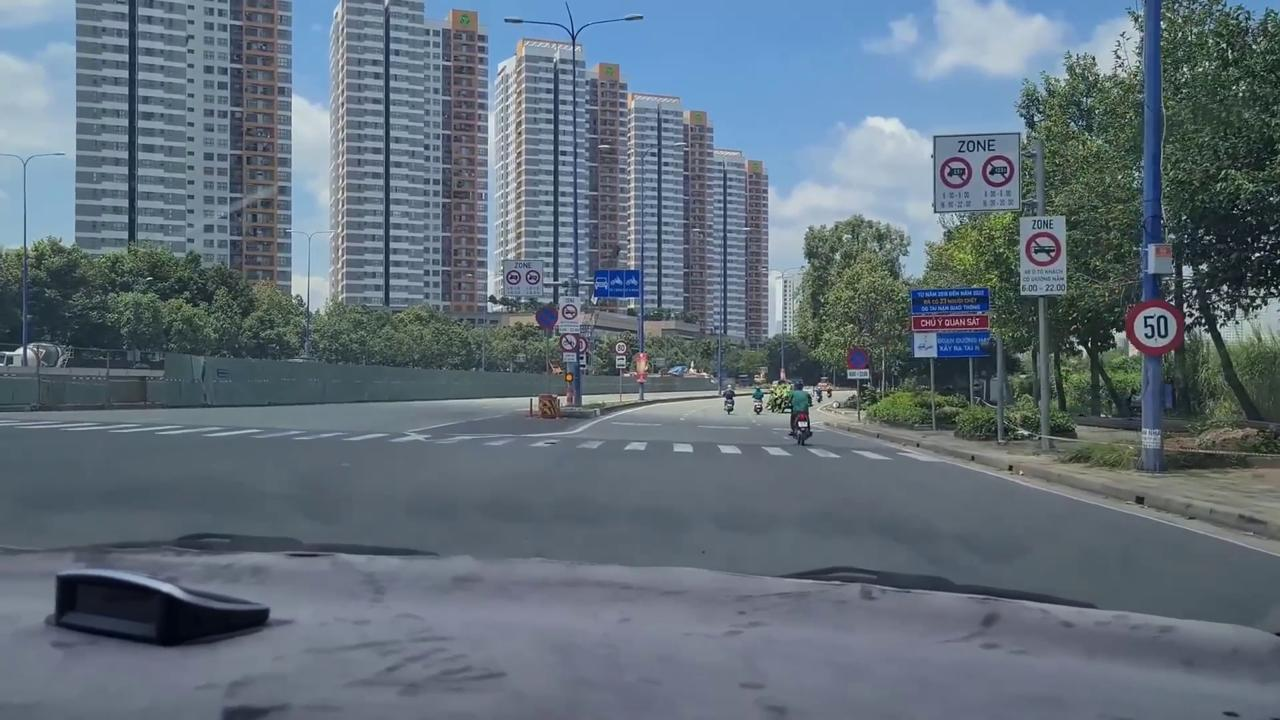Biển phụ: (846, 370, 869, 379), (615, 355, 627, 369)
Cấm cac phương tiện hoạt động trong khung giờ cố định: (932, 132, 1024, 214), (1018, 216, 1070, 296), (500, 258, 546, 297), (558, 295, 580, 334)
Cấm dừng - Cấm đỗ: (533, 304, 559, 330), (845, 346, 872, 370)
Cấm xe máy: (559, 334, 578, 353)
Giới hạn tốc độ 50Km/h: (1124, 297, 1183, 356)
Giới hạn tốc độ 80Km/h: (614, 340, 628, 356)
Khác: (908, 287, 996, 358)
Làn đường cho từng xe: (593, 268, 641, 299)
